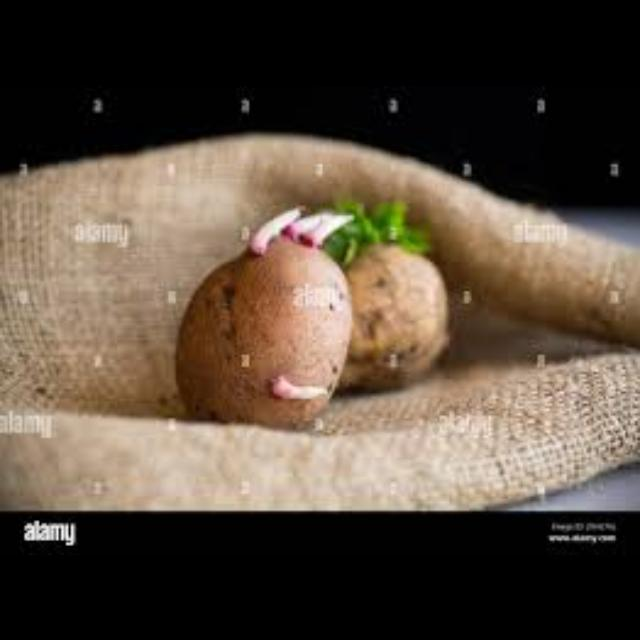Sprouted potato: (167, 204, 367, 442), (280, 187, 466, 396)
